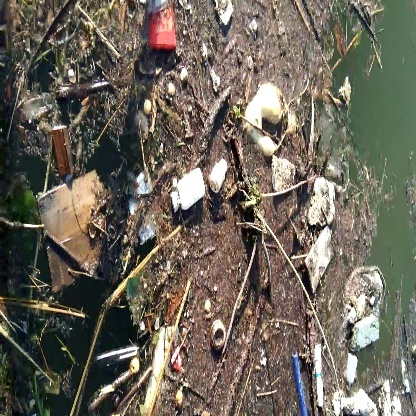branch: (197, 84, 239, 154)
plastic-garbage: (338, 262, 385, 354)
